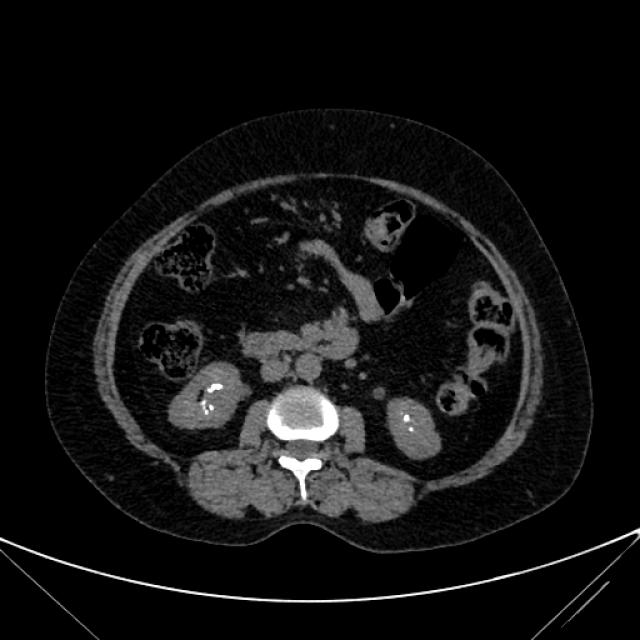kidney: (170, 361, 248, 432), (385, 394, 444, 459)
stone: (207, 382, 225, 392), (199, 401, 208, 409), (404, 414, 412, 423), (408, 426, 414, 432), (210, 404, 215, 411), (204, 410, 209, 415)
